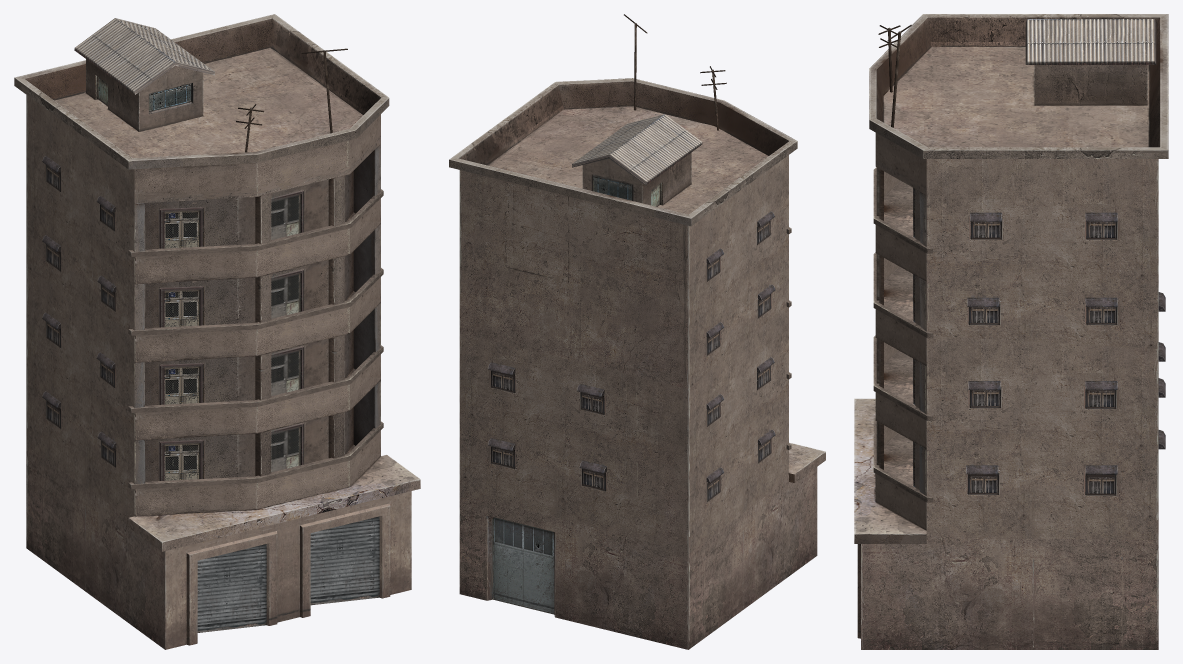
The model's file is buildings_11.FBX.
3 renders of one model, left to right at view 1: azimuth 30°, elevation 25°; view 2: azimuth 150°, elevation 25°; view 3: azimuth 270°, elevation 25°, orthographic. The views are drawn at different scales.
Parts seen in each view (by area): view 1: Object004; view 2: Object004; view 3: Object004.
Boxes of the visible parts, box(x1,y1,x2,y2) form: Object004: box(14, 14, 420, 649); Object004: box(449, 14, 825, 649); Object004: box(854, 14, 1168, 649).
Bounding box in the file's own units: 1100 × 1070 × 2196.
Materials: 1 (1 with a texture image).
